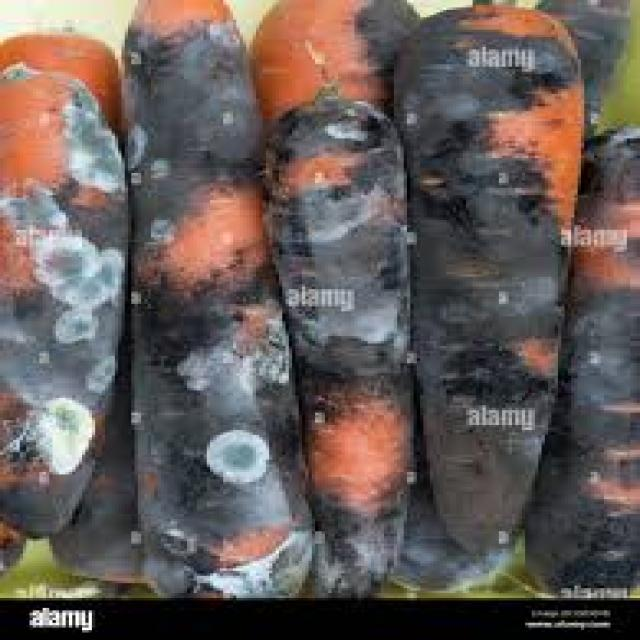Stale_Carrot: (119, 0, 317, 601), (400, 0, 586, 593), (244, 0, 426, 597), (0, 34, 145, 580), (525, 122, 638, 598)
